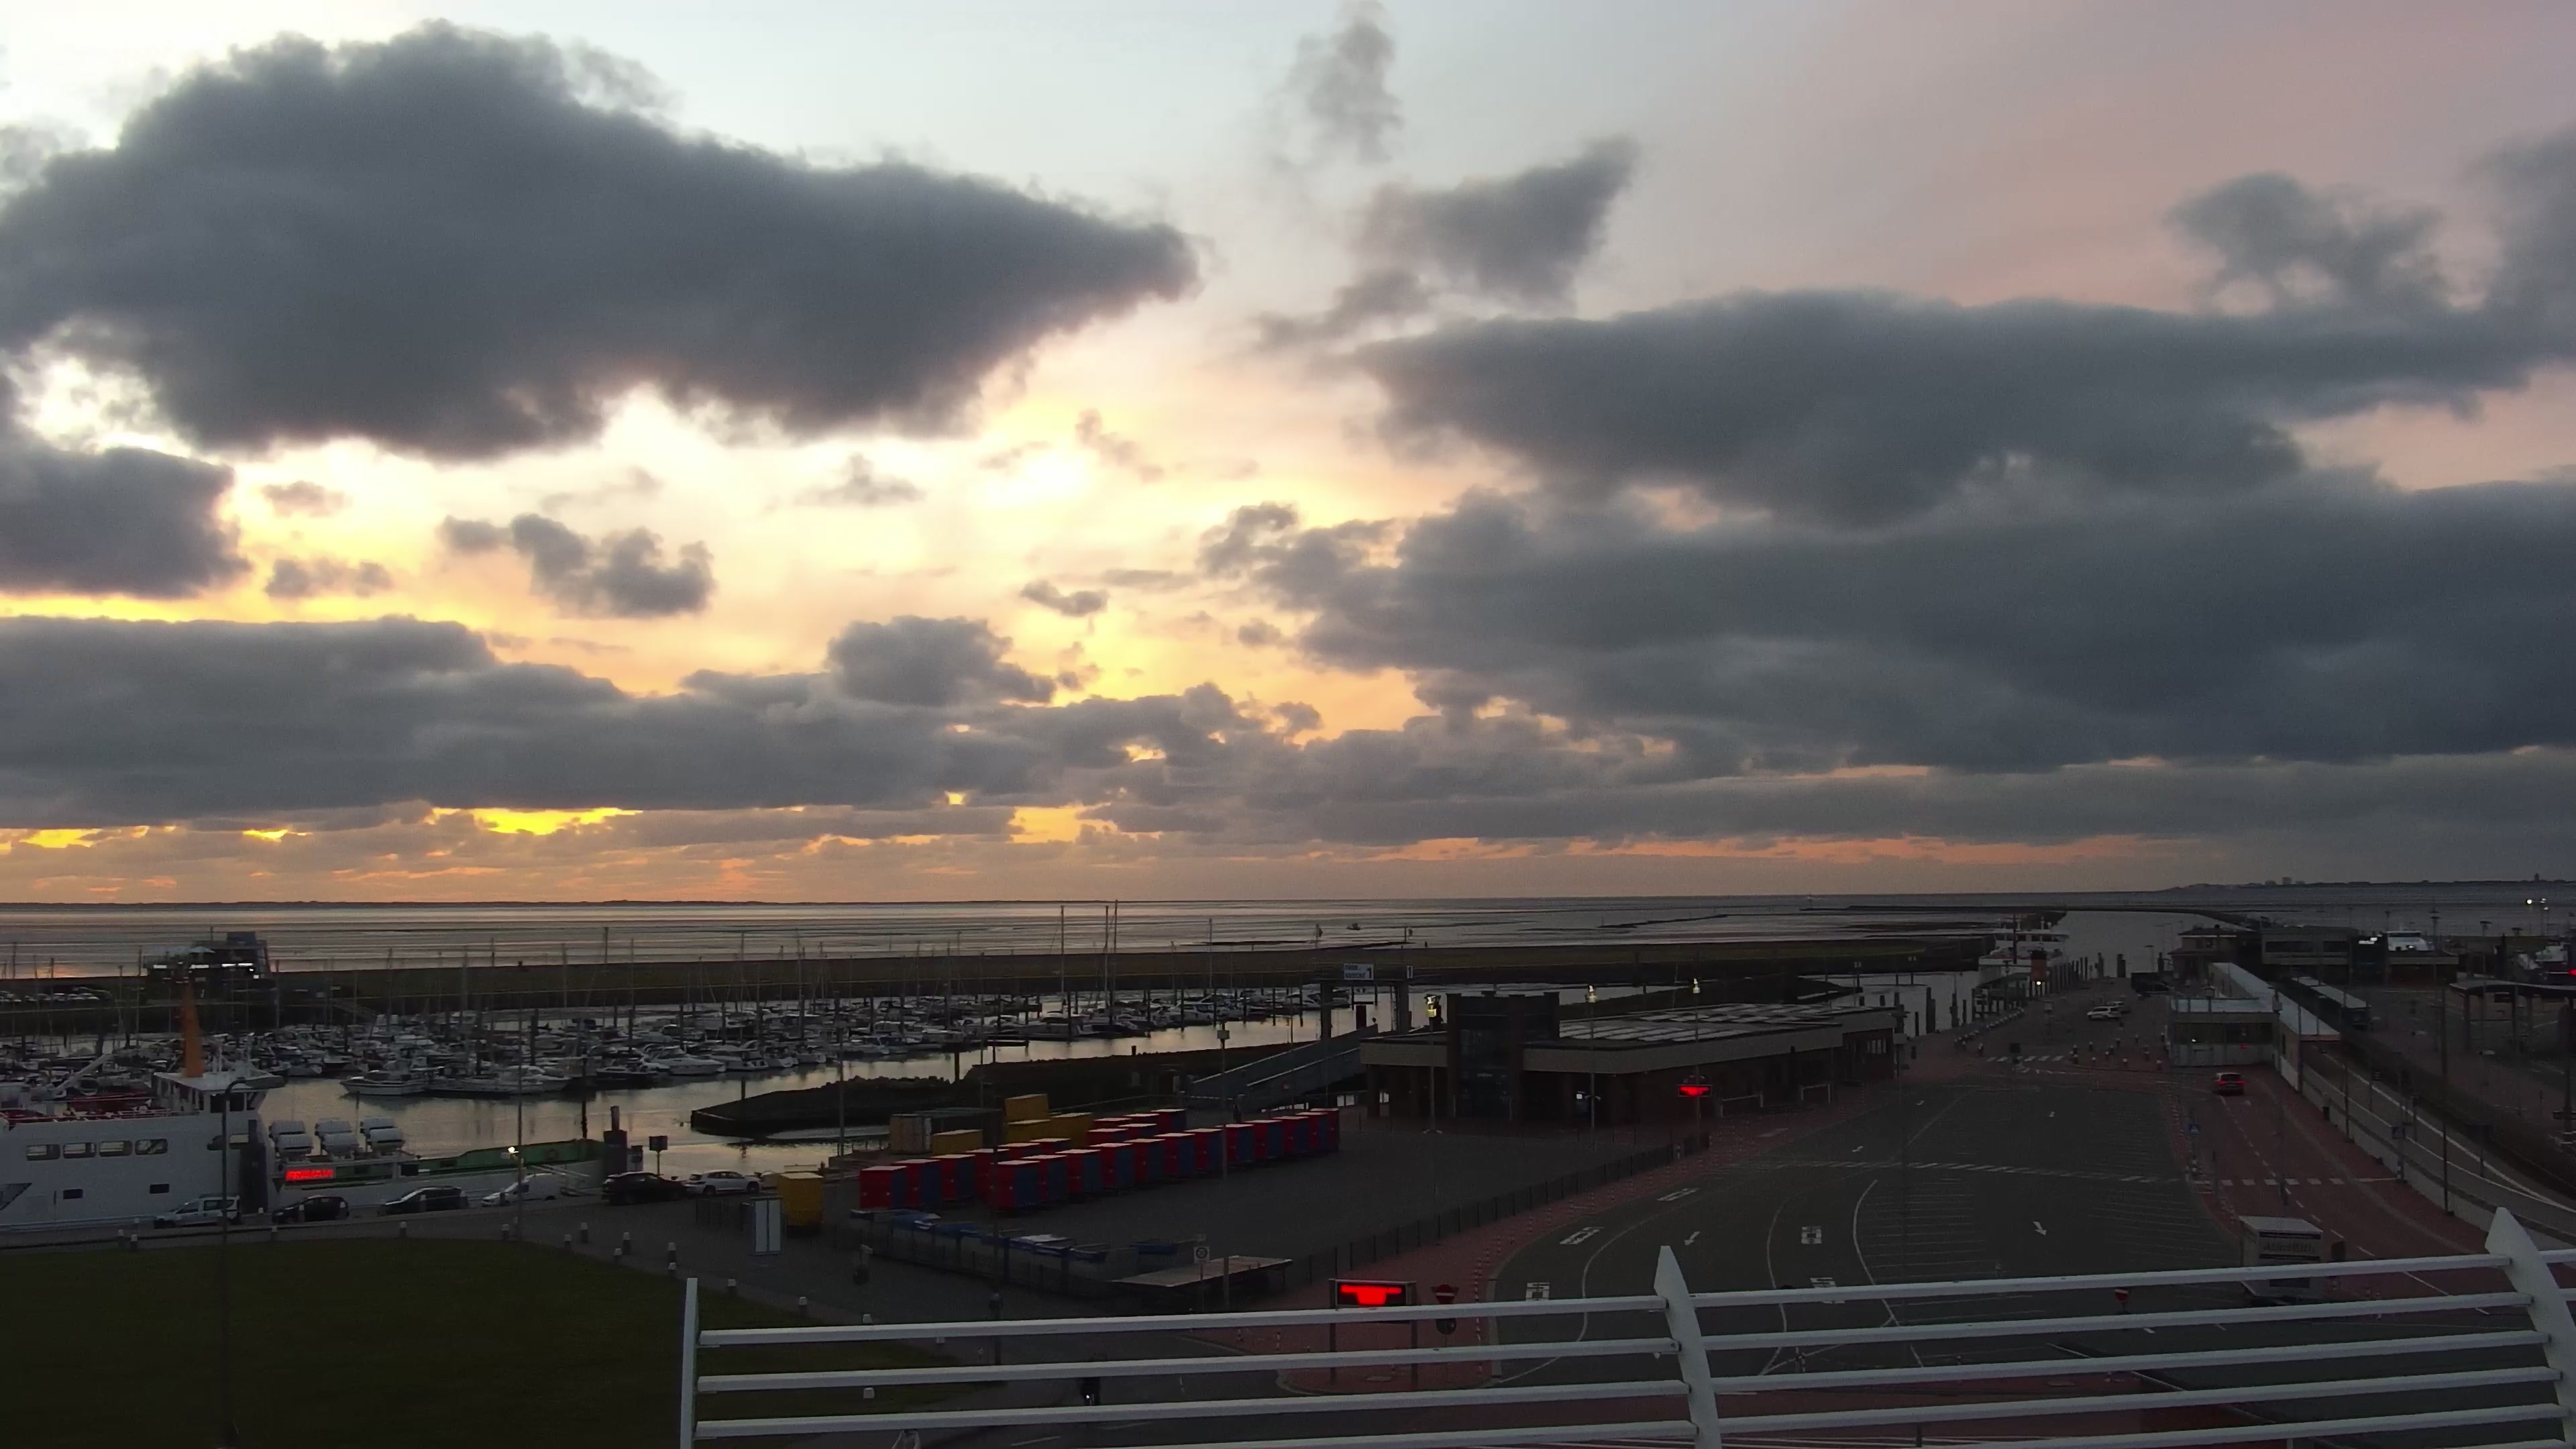land: (152, 1192, 241, 1226), (481, 1171, 561, 1208), (600, 1169, 685, 1203), (380, 1184, 469, 1214), (271, 1194, 350, 1224), (681, 1168, 763, 1194), (2210, 1070, 2243, 1095), (2086, 1005, 2121, 1021), (1079, 1387, 1097, 1408), (2104, 1001, 2130, 1014), (78, 991, 99, 1003), (65, 991, 83, 1005), (0, 989, 14, 1001), (35, 991, 51, 1001), (51, 991, 65, 1001), (21, 994, 35, 1005), (11, 996, 25, 1005), (0, 996, 11, 1005)
sea: (0, 961, 642, 1231), (1090, 897, 1150, 1035), (1978, 916, 2068, 980), (5, 955, 58, 1058), (341, 1063, 428, 1099), (648, 1044, 724, 1074), (1012, 1014, 1099, 1035), (699, 1046, 770, 1070), (2381, 922, 2429, 952), (757, 1044, 801, 1069), (1169, 1000, 1215, 1023), (789, 1040, 828, 1063), (1276, 989, 1322, 1008), (879, 1031, 913, 1053), (860, 1035, 888, 1054), (1327, 985, 1352, 1005), (644, 1063, 658, 1083), (1345, 922, 1361, 931)
